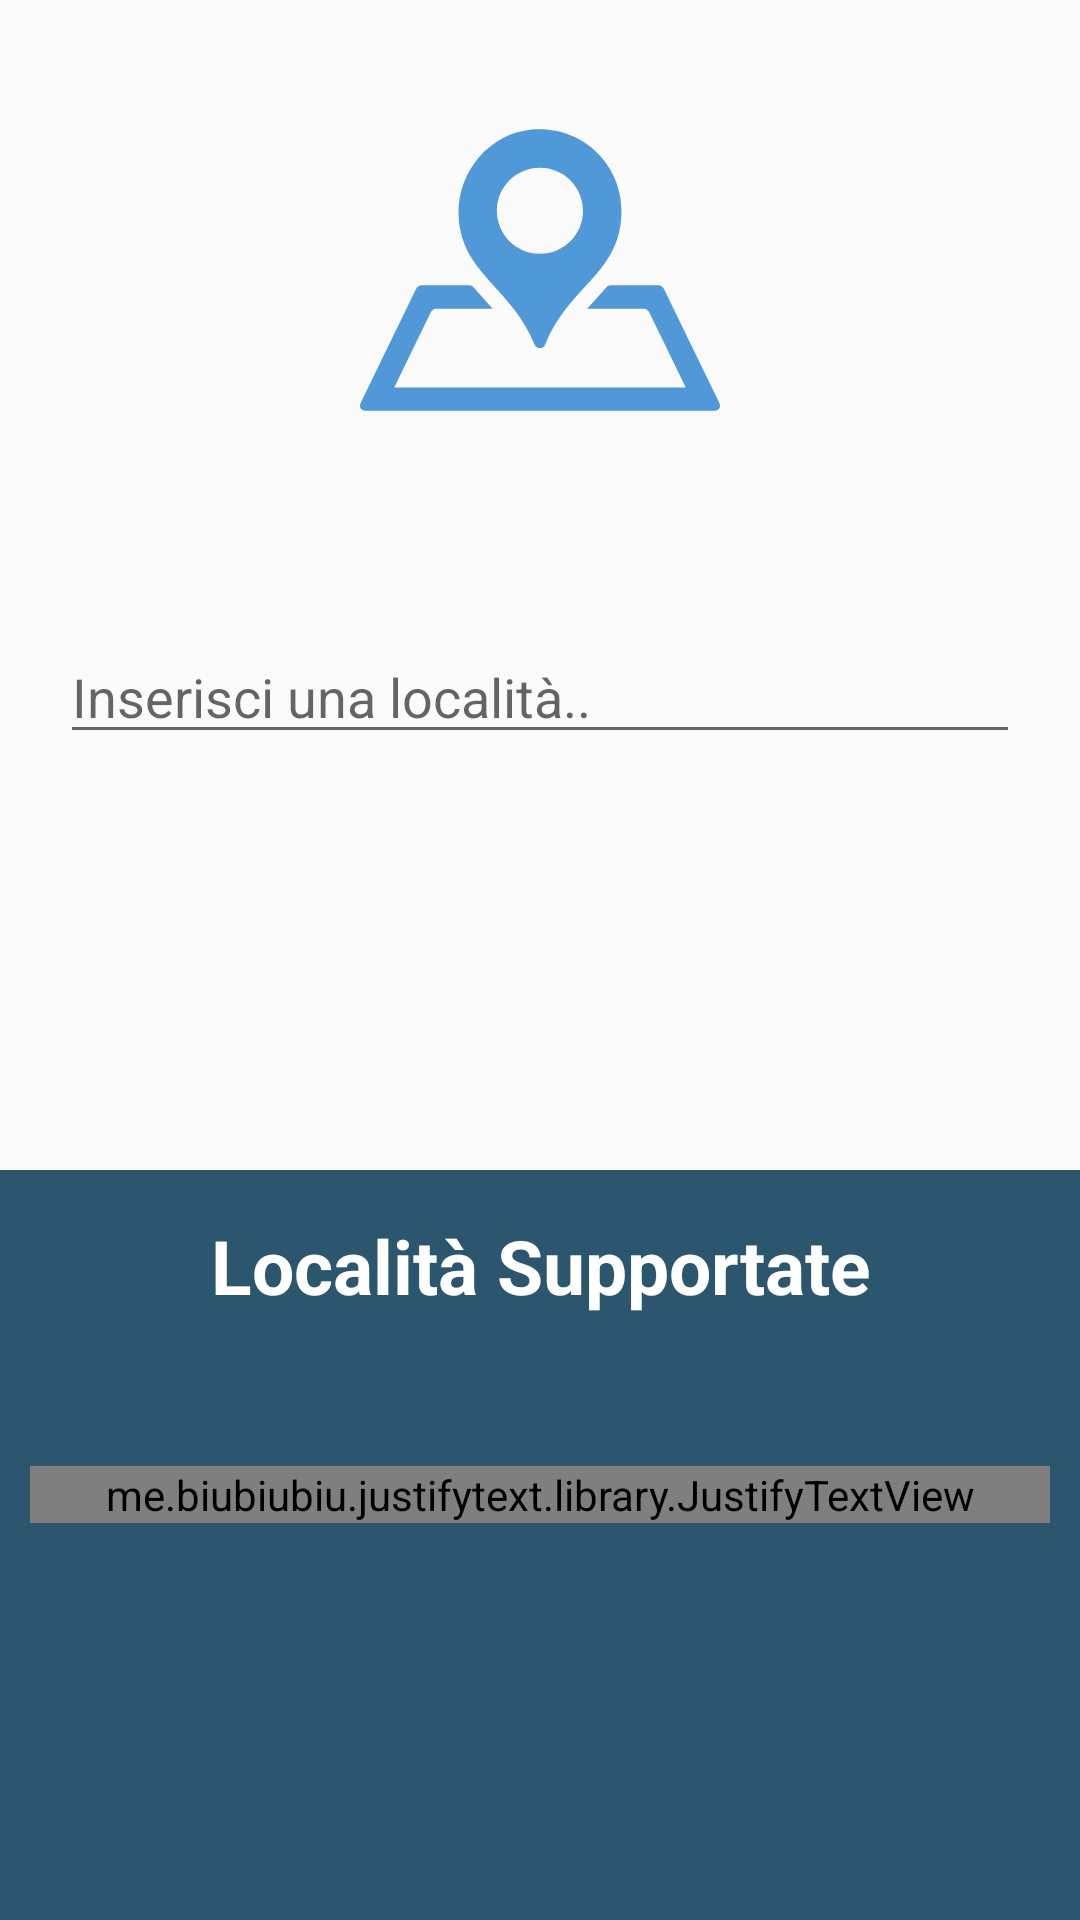

Named icons in this screenshot (1080*1920) and their centers, (x,y):
mar map: (540,270)
